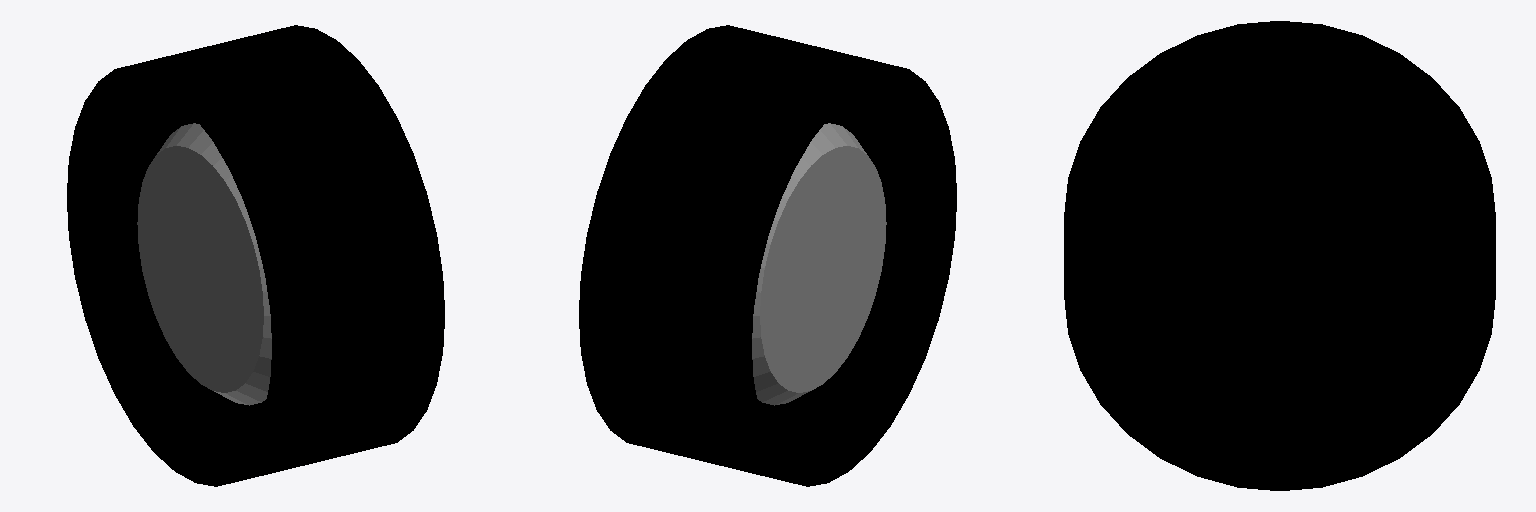
File: Rueda.obj
3 renders of one model, left to right at view 1: azimuth 30°, elevation 25°; view 2: azimuth 150°, elevation 25°; view 3: azimuth 270°, elevation 25°, orthographic.
Parts seen in each view (by area): view 1: Rueda 01; view 2: Rueda 01; view 3: Rueda 01.
Part boxes in pixels (left/top/right/bottom): Rueda 01: left=67, top=25, right=444, bottom=486; Rueda 01: left=579, top=25, right=956, bottom=486; Rueda 01: left=1064, top=21, right=1495, bottom=490.
Size of the model in its own units: 0.1745 by 0.4018 by 0.4018.